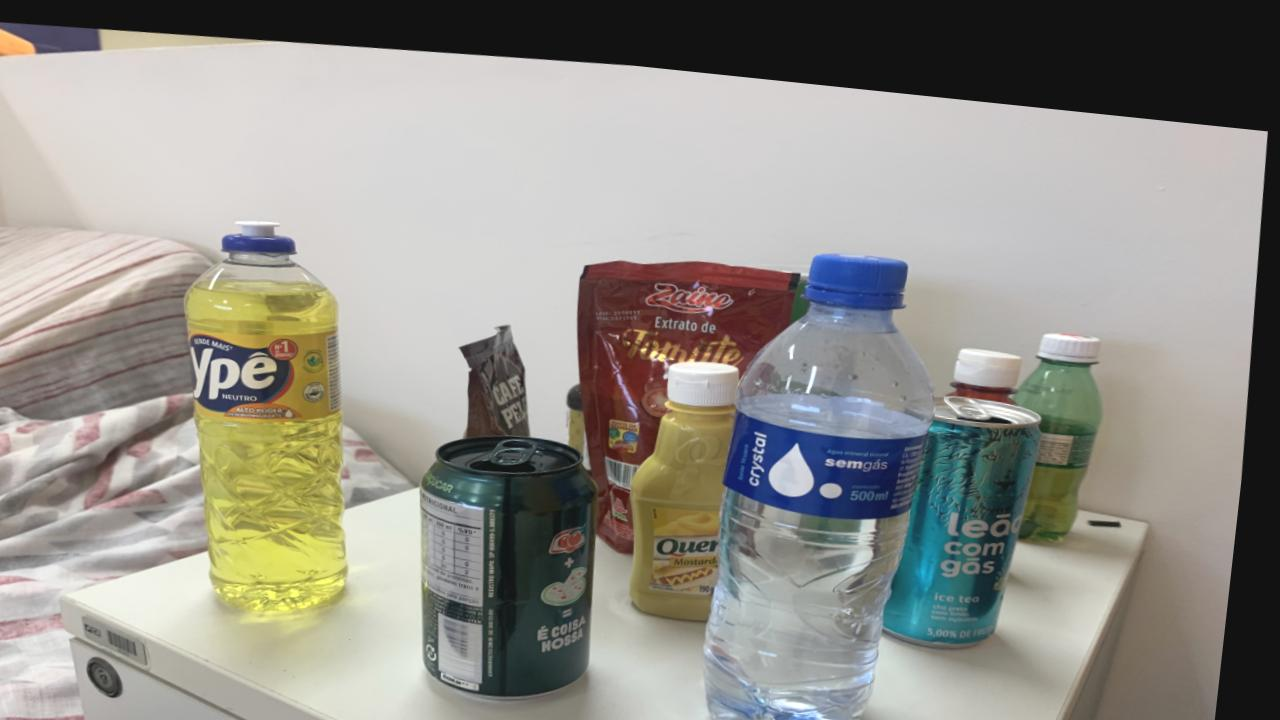Coffee-Pantry_Items: (467, 313, 538, 427)
Detergent-Cleanup_Items: (192, 215, 360, 604)
English_Sauce-Pantry_Items: (574, 371, 597, 446)
Guarana-Drinks: (1020, 309, 1110, 517)
Guarana_Can-Drinks: (431, 424, 606, 686)
Ketchup-Pantry_Items: (955, 326, 1027, 382)
Mustard-Pantry_Items: (640, 345, 747, 604)
Tea-Drinks: (895, 374, 1049, 625)
Tomato_Sauce-Pantry_Items: (583, 245, 814, 538)
Water_Bottle-Drinks: (717, 234, 942, 720)
